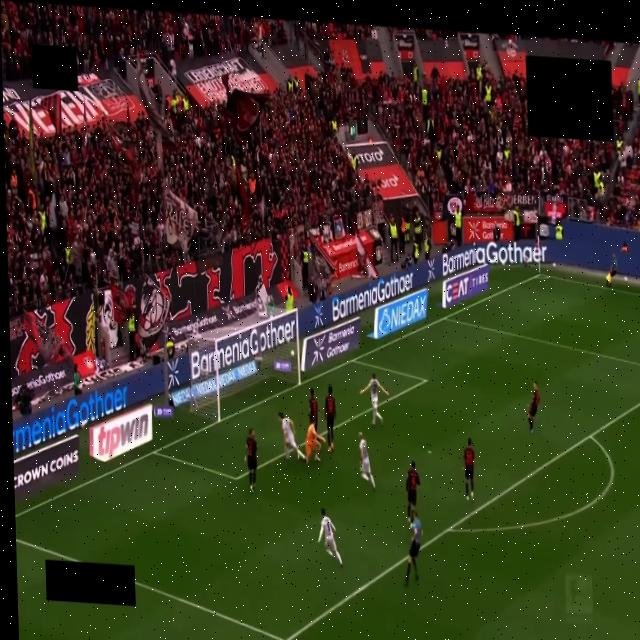player: (360, 373, 389, 424), (318, 508, 342, 567), (279, 412, 305, 460), (358, 432, 375, 489), (406, 462, 420, 522), (245, 429, 257, 493), (306, 423, 324, 464), (325, 386, 336, 452), (464, 438, 475, 500), (528, 381, 540, 433), (309, 388, 318, 431)
referee: (405, 511, 422, 585)
